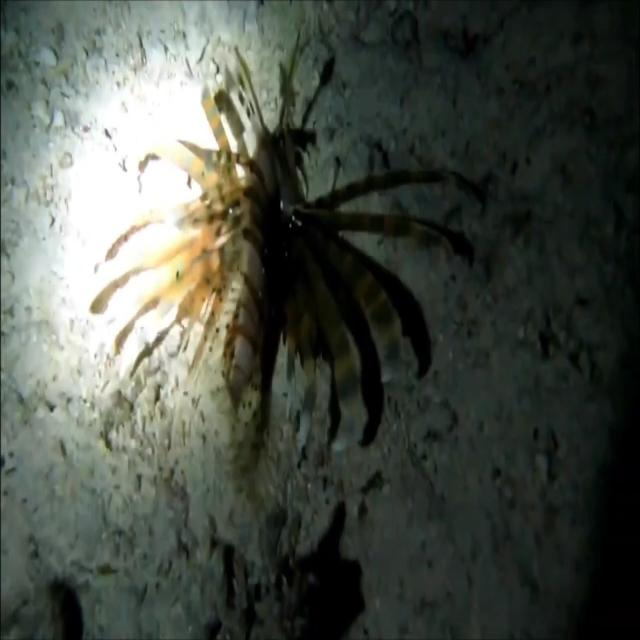Lionfish -Endangered- -Poisonous-: (95, 42, 440, 444)
